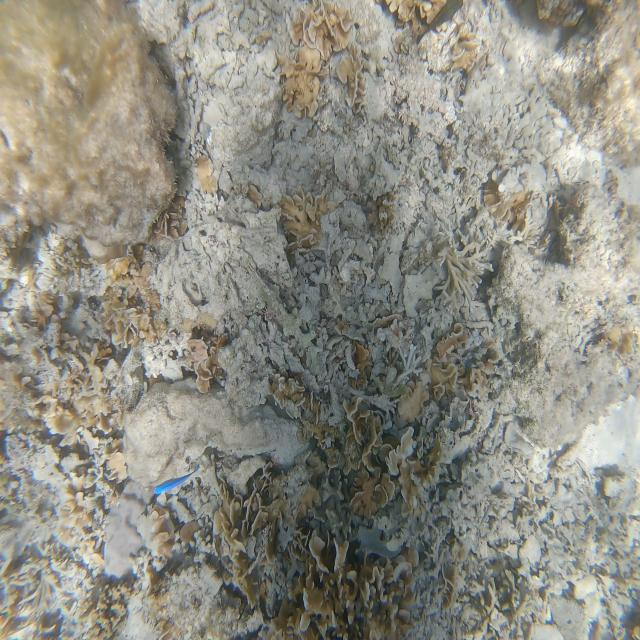rurisuzumedai: (154, 466, 200, 496)
